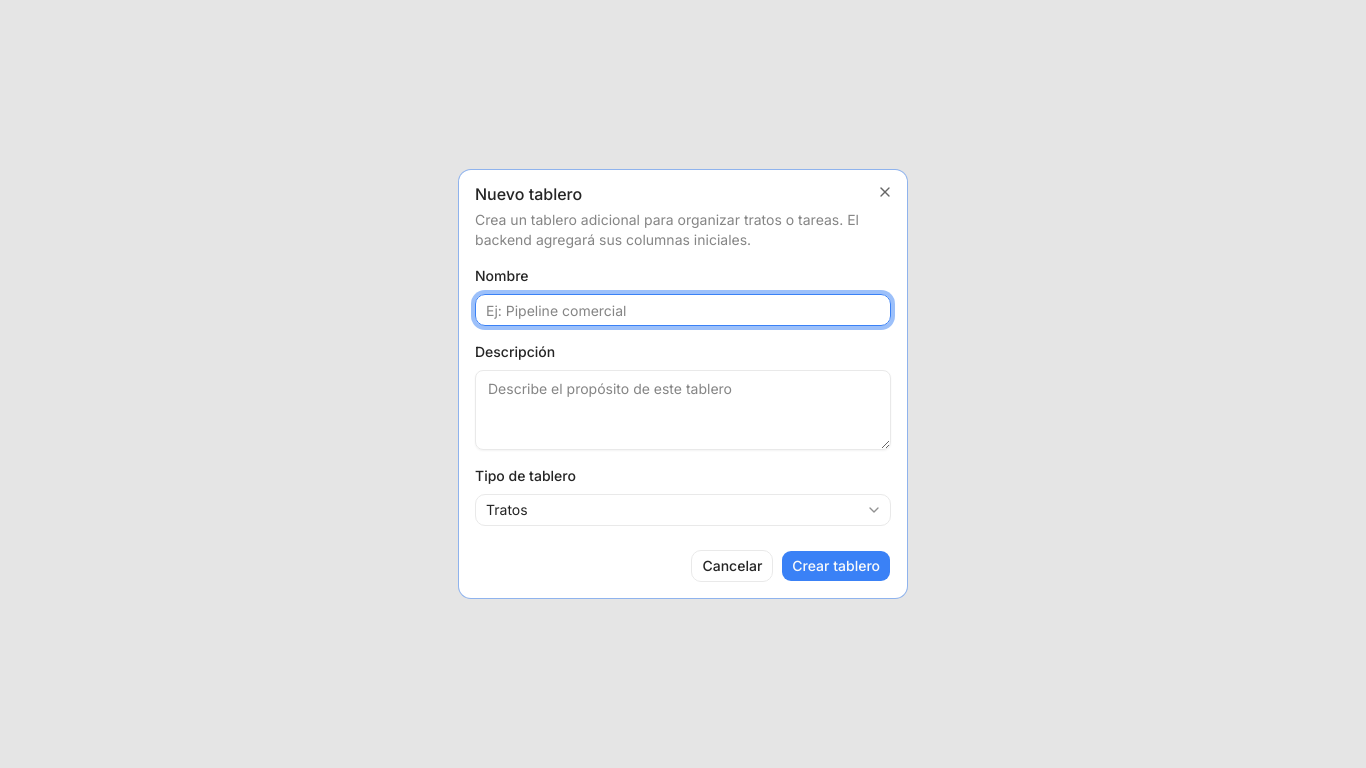
TableroFormDialog › shows validation messages and exposes only TAREAS/TRATOS when creating
Click the button "Crear tablero": {"x": 836, "y": 566} left=781, top=550, right=891, bottom=582
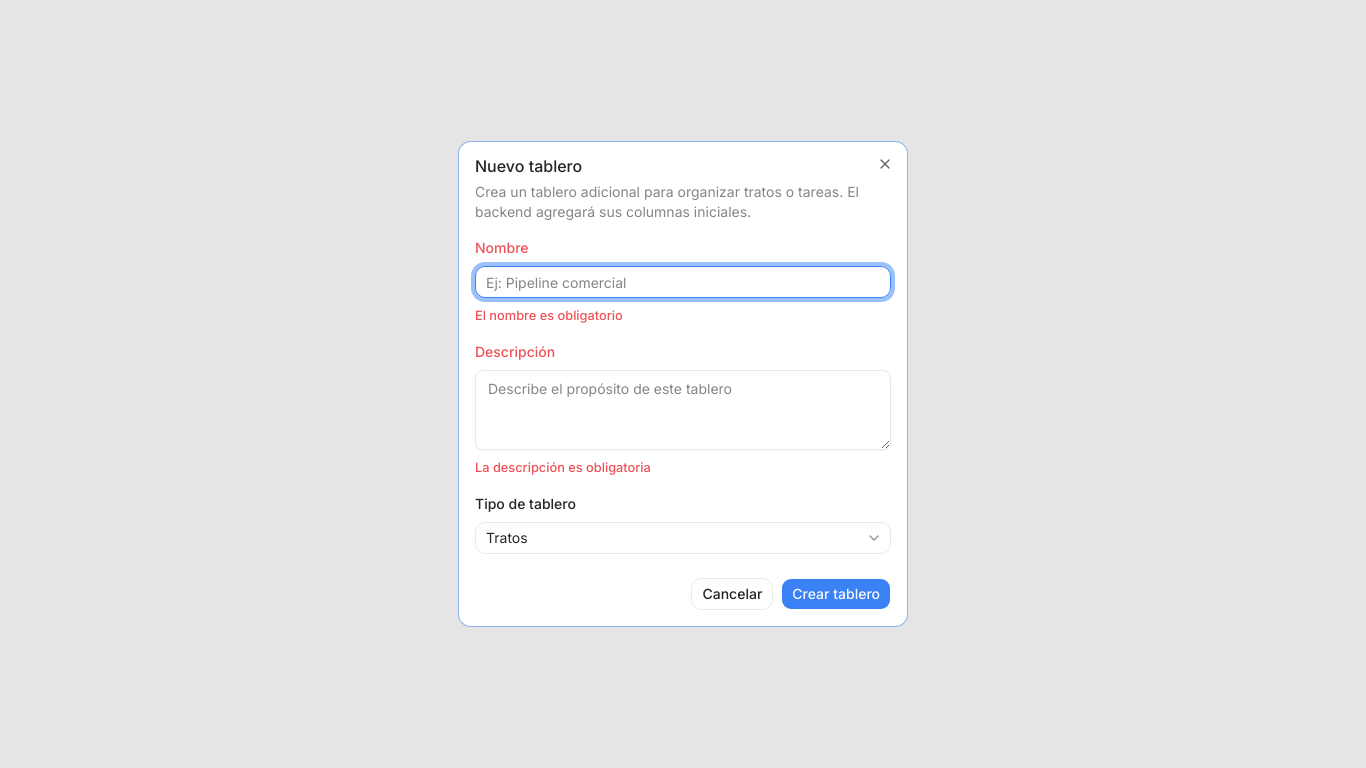
Expected: the text "El nombre es obligatorio" is shown, left=475, top=308, right=623, bottom=323
Expected: the text "La descripción es obligatoria" is shown, left=475, top=460, right=651, bottom=475
Click the dropdown named "tipo de tablero": {"x": 507, "y": 538} left=475, top=522, right=891, bottom=554
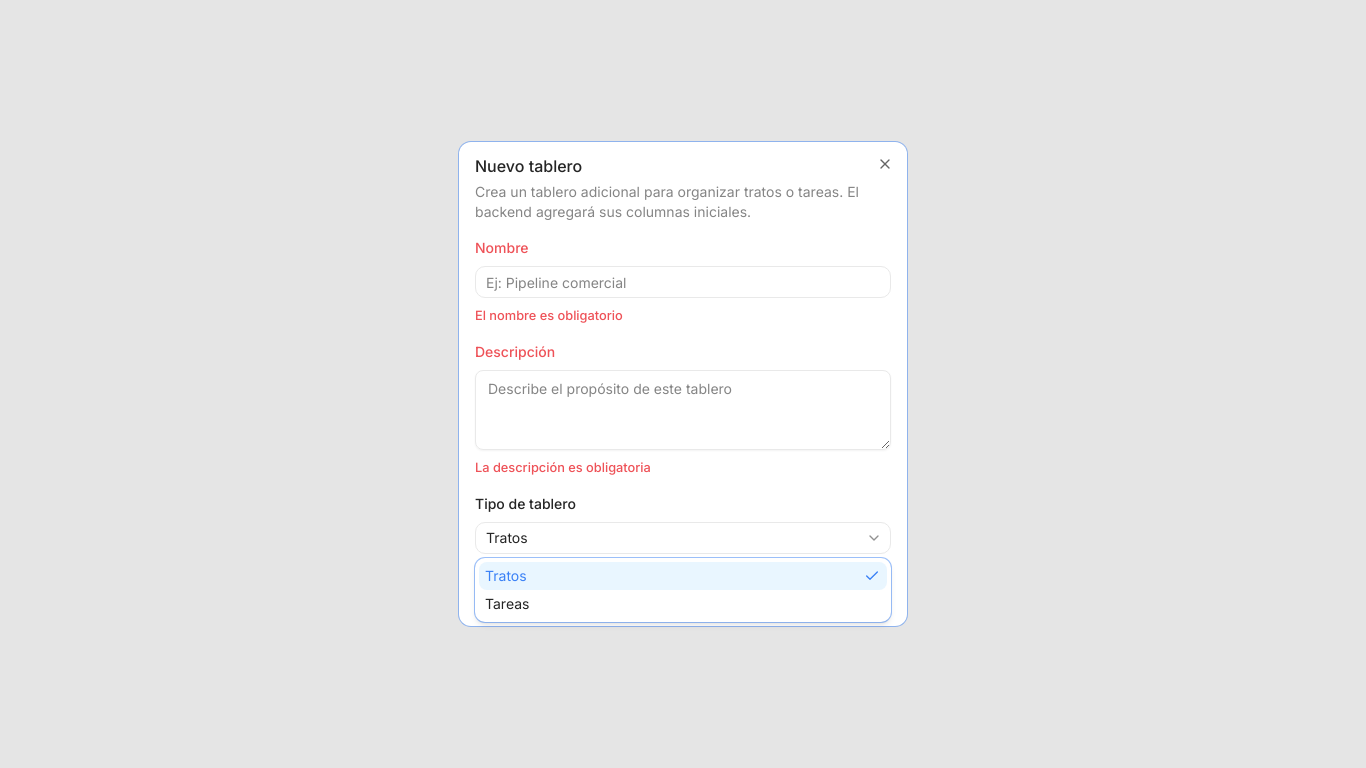
Expected: the option "Tratos" is shown, left=479, top=562, right=887, bottom=590
Expected: the option "Tareas" is shown, left=485, top=595, right=530, bottom=612
